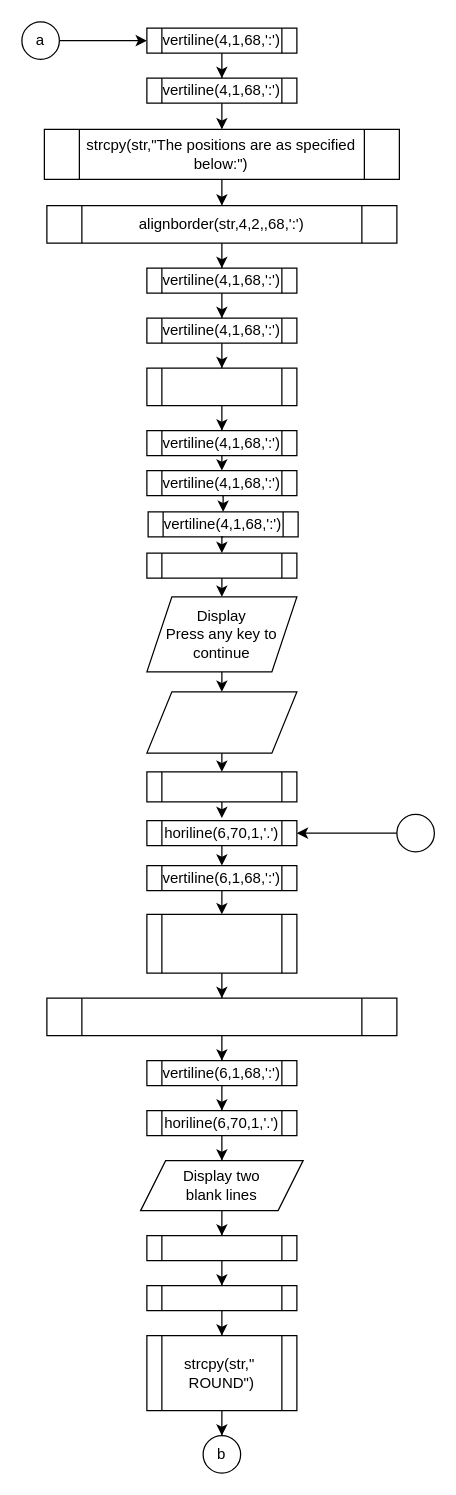
This 456x1495 diagram has some shape labels left out. The shapes that lost their labels are listed below. From the top down, each one's centre as x and y in pixels, then its label:
(x=221, y=386): tictactoeFirstPrint
(x=221, y=565): horiline(4,70,1,':')
(x=221, y=722): Take any character from user
(x=221, y=786): System("cls")
(x=415, y=832): do
(x=221, y=943): strcpy(str,"LET THE GAME BEGIN")
(x=221, y=1016): alignborder(str,6,2,68,':')
(x=221, y=1247): horiline(9,15,1,'/')
(x=221, y=1297): vertiline(9,1,13,'\')
